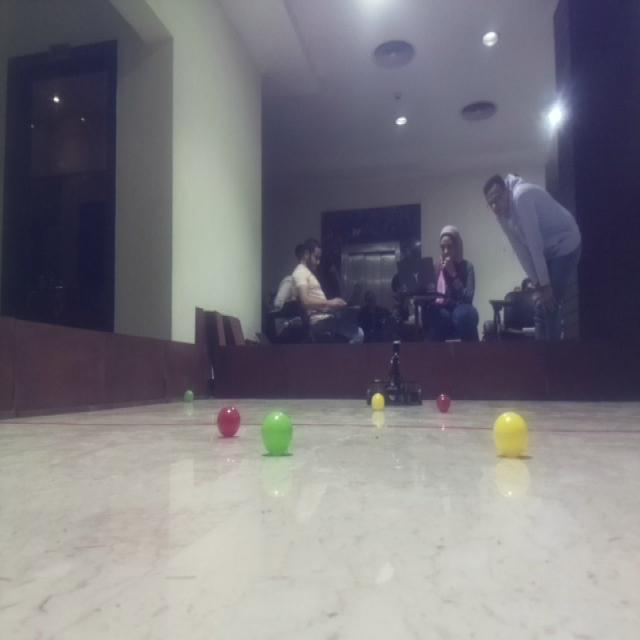ball: (490, 409, 530, 460), (258, 408, 296, 458), (214, 402, 245, 440), (435, 389, 455, 416), (178, 384, 198, 404), (369, 392, 387, 414)
